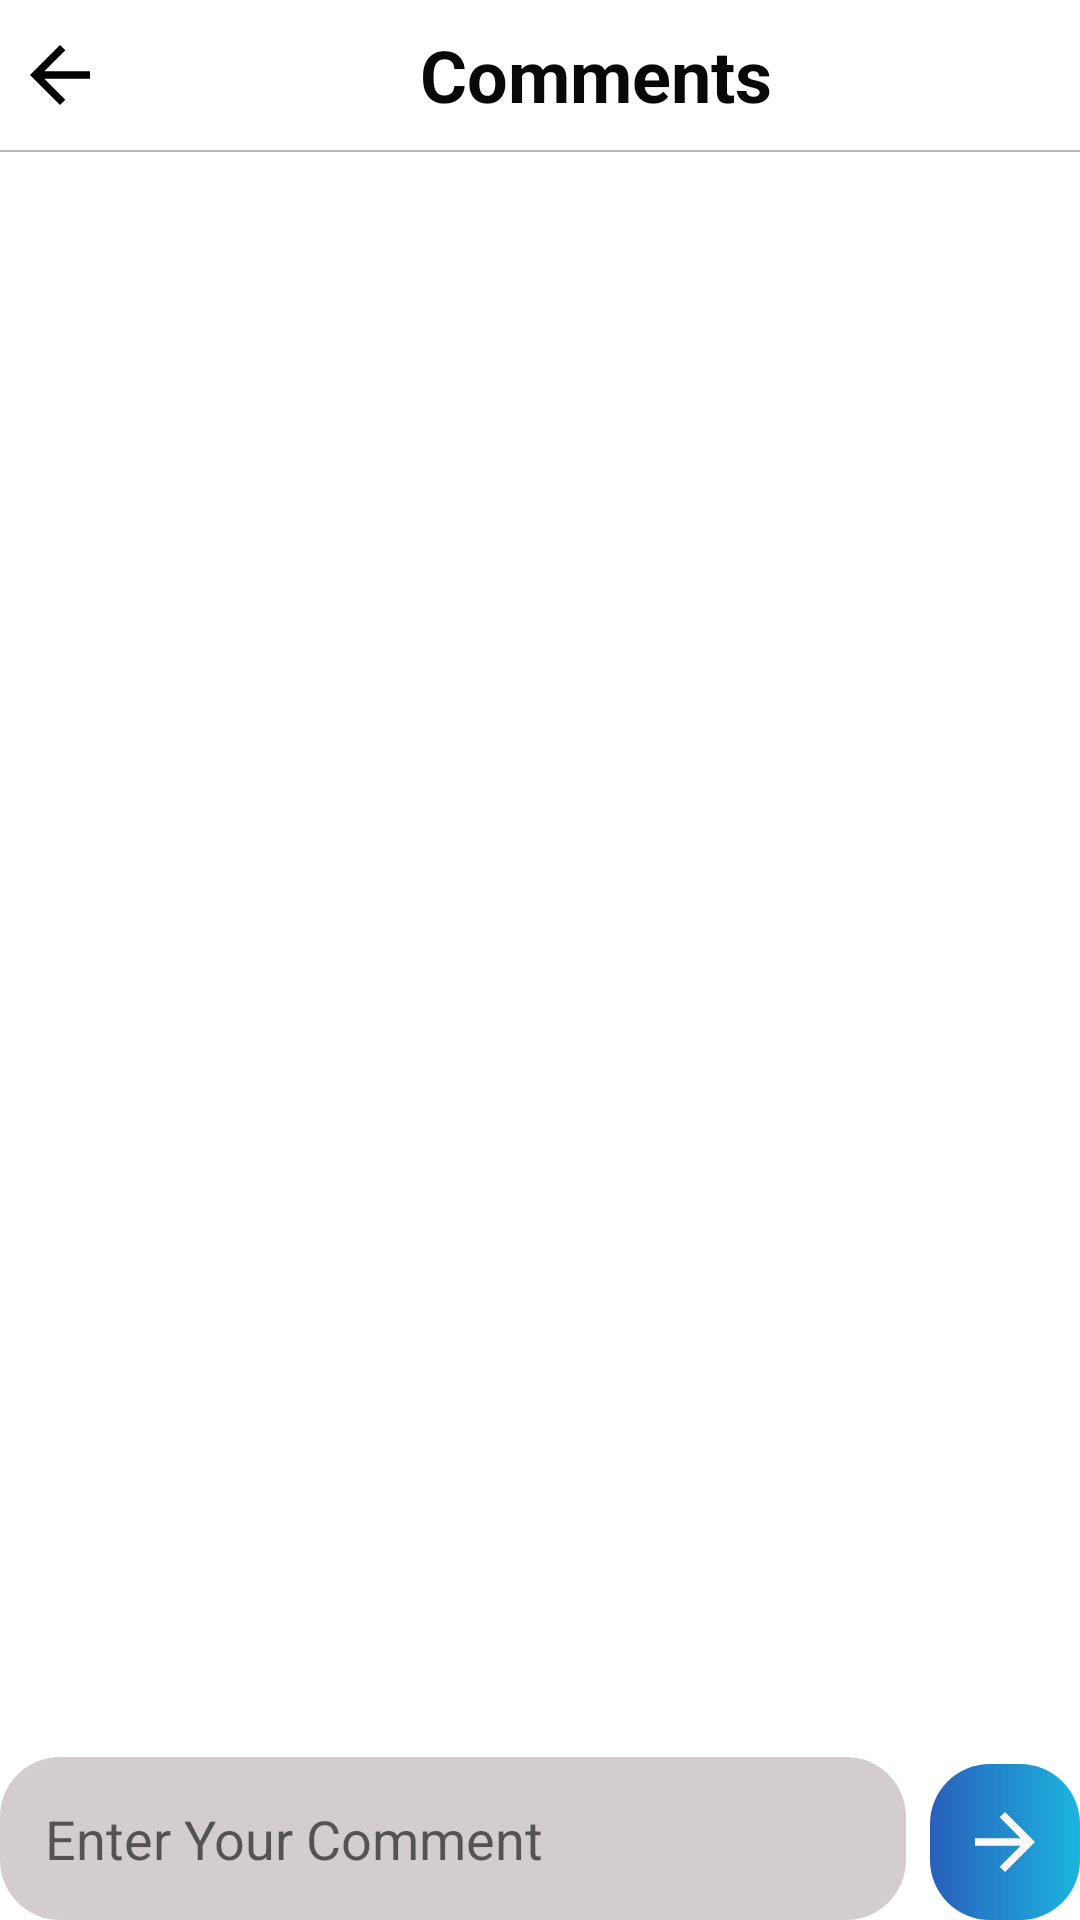

Point at icon controls on the screen. Image size 1080x1920, points as [x,y].
arrow back: [60,75]
arrow forward: [1005,1842]
